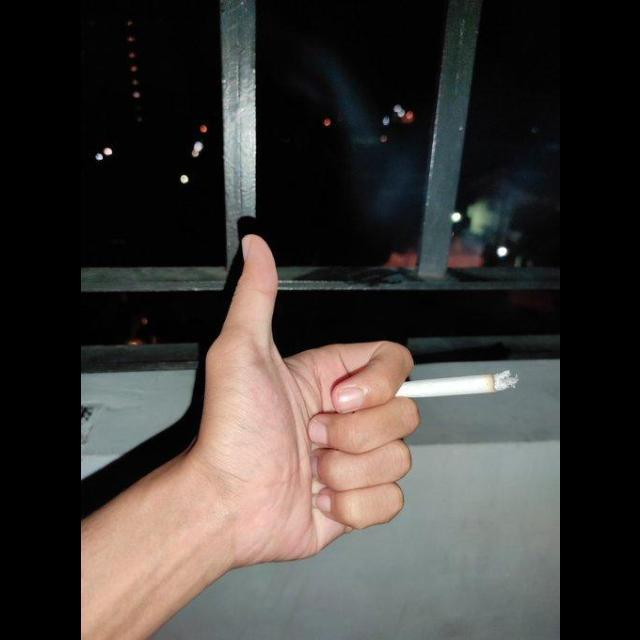rokok: (384, 366, 526, 402)
